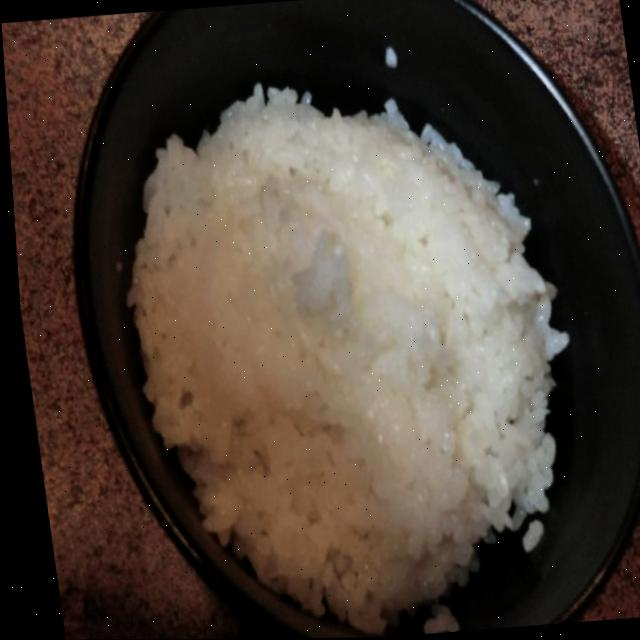米饭主食: (30, 0, 640, 640)
